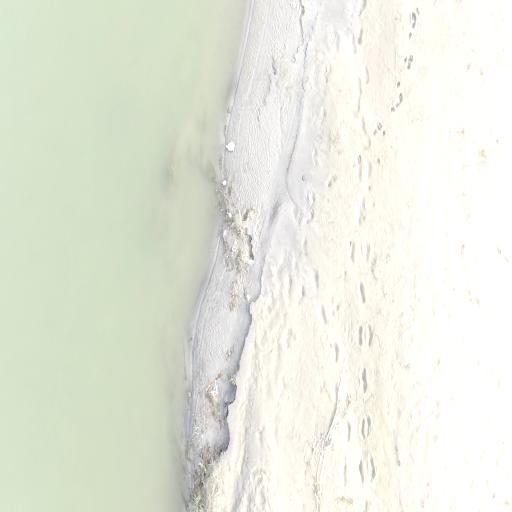turtle: (226, 139, 235, 152), (220, 177, 227, 190)
